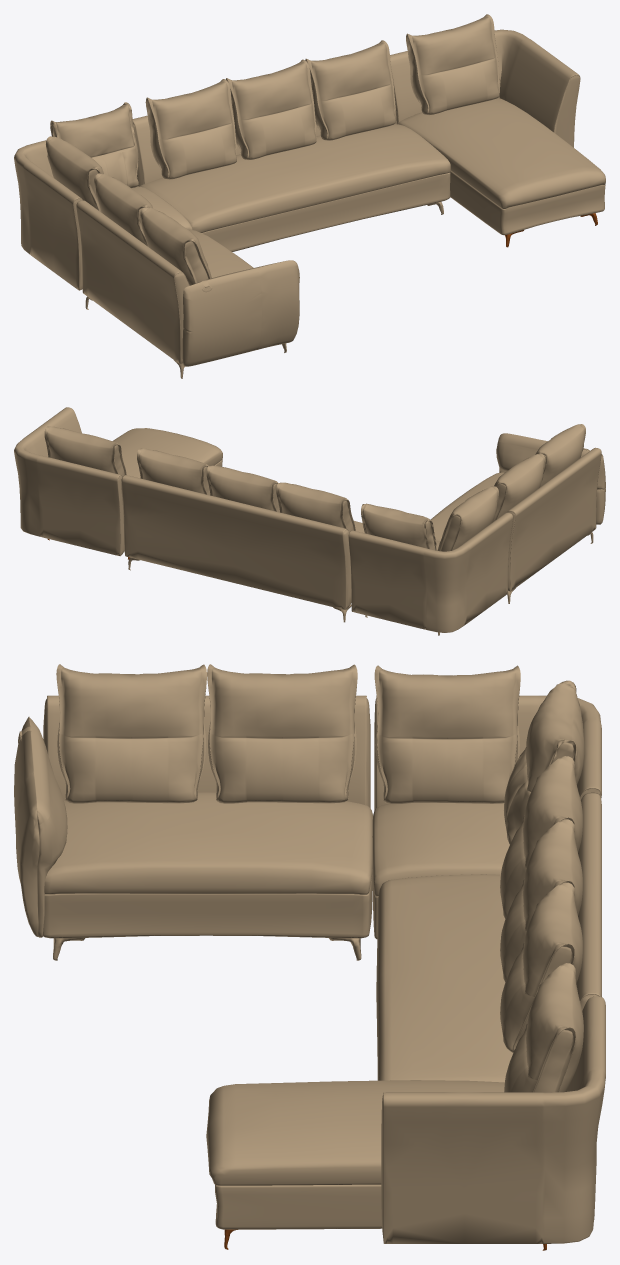
The model's file is scene-1795157906090-ithi5isk.glb.
3 renders of one model, top to bottom at view 1: azimuth 30°, elevation 25°; view 2: azimuth 150°, elevation 25°; view 3: azimuth 270°, elevation 25°, orthographic. The views are drawn at different scales.
Visible parts, largest first — view 1: a10022ad_dea4_4dba_b147_a57163985082010 (×4), a10022ad_dea4_4dba_b147_a57163985082009 (×4), a10022ad_dea4_4dba_b147_a57163985082001 (×2), a10022ad_dea4_4dba_b147_a57163985082003 (×3), a10022ad_dea4_4dba_b147_a57163985082006 (×2), a10022ad_dea4_4dba_b147_a57163985082012, a10022ad_dea4_4dba_b147_a57163985082004; view 2: a10022ad_dea4_4dba_b147_a57163985082006 (×2), a10022ad_dea4_4dba_b147_a57163985082001 (×2), a10022ad_dea4_4dba_b147_a57163985082009 (×4), a10022ad_dea4_4dba_b147_a57163985082003 (×3), a10022ad_dea4_4dba_b147_a57163985082010 (×2), a10022ad_dea4_4dba_b147_a57163985082004, a10022ad_dea4_4dba_b147_a57163985082012; view 3: a10022ad_dea4_4dba_b147_a57163985082010 (×4), a10022ad_dea4_4dba_b147_a57163985082009 (×4), a10022ad_dea4_4dba_b147_a57163985082001 (×2), a10022ad_dea4_4dba_b147_a57163985082003 (×3), a10022ad_dea4_4dba_b147_a57163985082006 (×2), a10022ad_dea4_4dba_b147_a57163985082012, a10022ad_dea4_4dba_b147_a57163985082004.
Part boxes in pixels (x1,y1,x2,y2): a10022ad_dea4_4dba_b147_a57163985082010 (×4): (131,98,605,277); a10022ad_dea4_4dba_b147_a57163985082009 (×4): (46,14,499,285); a10022ad_dea4_4dba_b147_a57163985082001 (×2): (14,29,580,290); a10022ad_dea4_4dba_b147_a57163985082003 (×3): (50,40,395,246); a10022ad_dea4_4dba_b147_a57163985082006 (×2): (76,108,396,364); a10022ad_dea4_4dba_b147_a57163985082012: (182,260,299,366); a10022ad_dea4_4dba_b147_a57163985082004: (145,79,236,179); a10022ad_dea4_4dba_b147_a57163985082006 (×2): (121,447,601,609); a10022ad_dea4_4dba_b147_a57163985082001 (×2): (14,407,513,632); a10022ad_dea4_4dba_b147_a57163985082009 (×4): (44,424,585,551); a10022ad_dea4_4dba_b147_a57163985082003 (×3): (137,448,545,550); a10022ad_dea4_4dba_b147_a57163985082010 (×2): (112,428,504,541); a10022ad_dea4_4dba_b147_a57163985082004: (276,482,355,532); a10022ad_dea4_4dba_b147_a57163985082012: (496,433,605,524); a10022ad_dea4_4dba_b147_a57163985082010 (×4): (43,792,512,1229); a10022ad_dea4_4dba_b147_a57163985082009 (×4): (56,664,583,1092); a10022ad_dea4_4dba_b147_a57163985082001 (×2): (374,695,605,1243); a10022ad_dea4_4dba_b147_a57163985082003 (×3): (207,664,584,1052); a10022ad_dea4_4dba_b147_a57163985082006 (×2): (43,695,601,1010); a10022ad_dea4_4dba_b147_a57163985082012: (14,716,67,937); a10022ad_dea4_4dba_b147_a57163985082004: (500,756,582,918).
Bounding box in the file's own units: 3.55 × 0.9 × 2.19.
